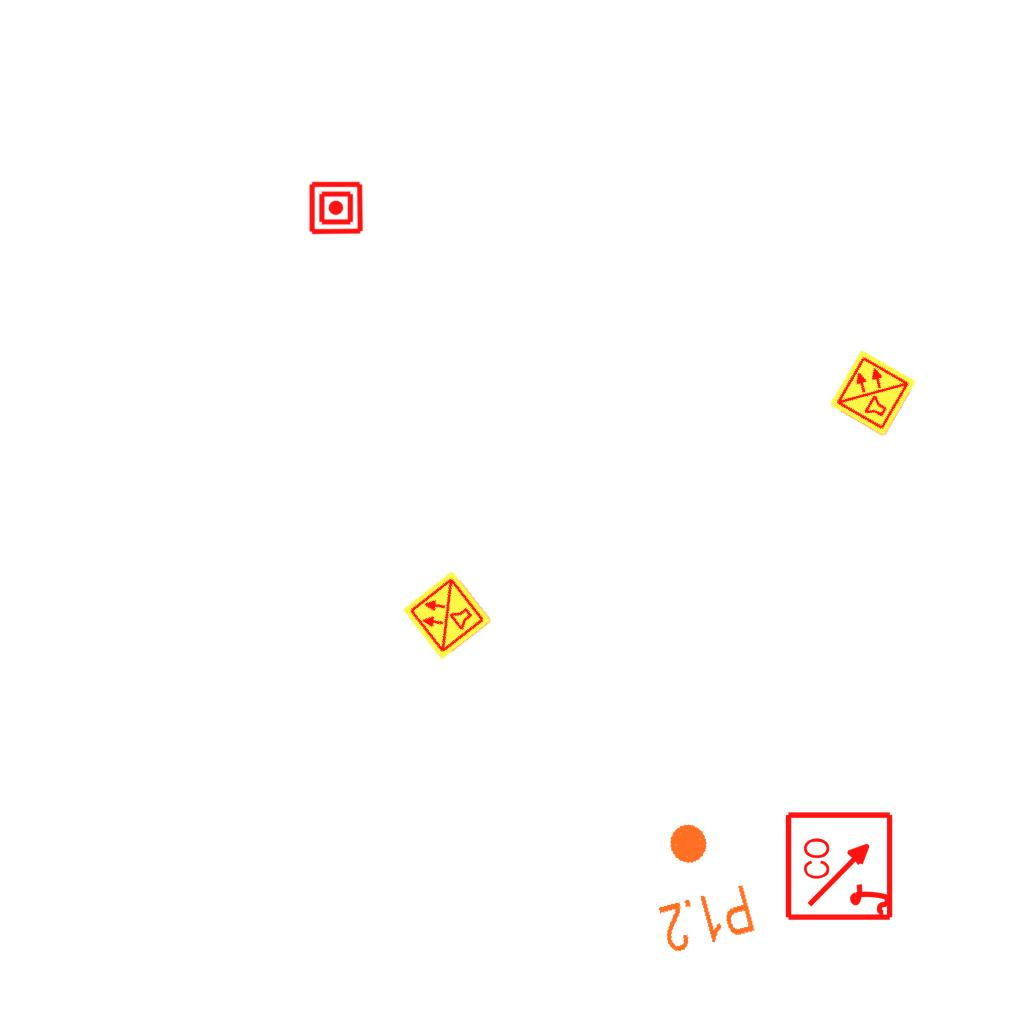Downlight_LED_Einbauleuchten_Flur: (636, 810, 759, 958)
NAM-Nichtautomatischer_Melder: (308, 180, 364, 236)
OKW_Multisensormelder_(Kombination_optischer_Rauch-Kahlenmonoxid_Waerme-Melder): (400, 568, 494, 662), (827, 347, 919, 439)
ROA_Rauchmelder_optisch_mit_Signalgeber_(Sockelsirene): (784, 809, 897, 922)
